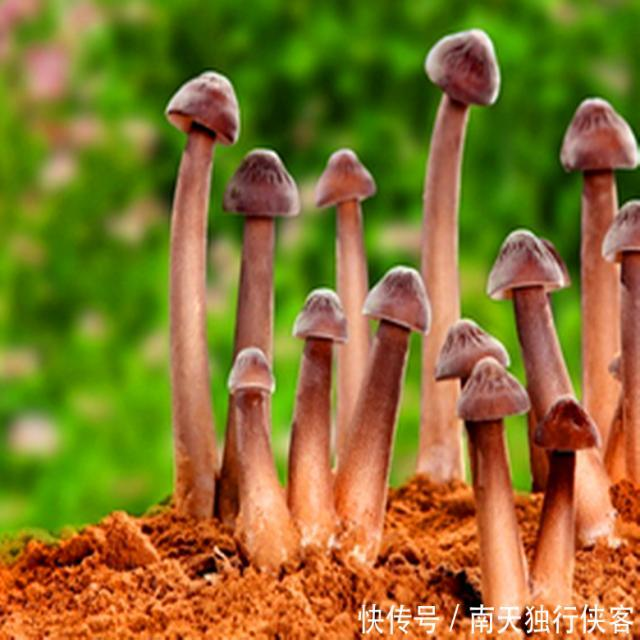Collybia albuminosa: (487, 227, 615, 537), (417, 27, 496, 493), (165, 69, 239, 509), (563, 95, 640, 503), (220, 146, 299, 530), (341, 267, 431, 561), (318, 146, 389, 473), (460, 352, 531, 616), (533, 401, 602, 615), (293, 290, 344, 569), (232, 347, 295, 560)
